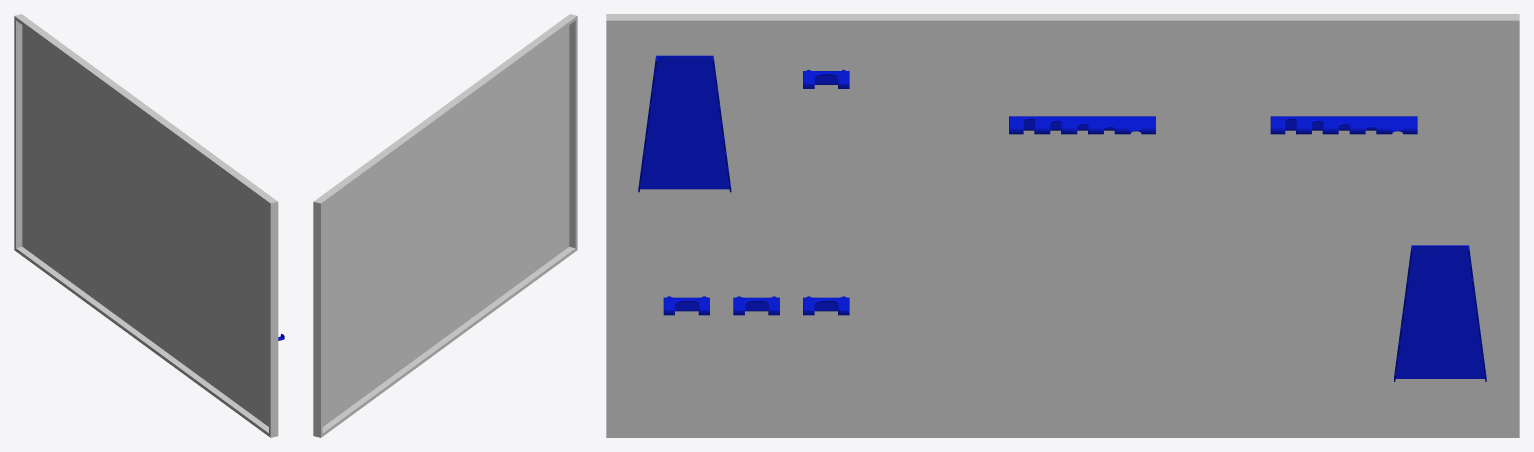
The model's file is Panel.fbx.
3 renders of one model, left to right at view 1: azimuth 30°, elevation 25°; view 2: azimuth 150°, elevation 25°; view 3: azimuth 270°, elevation 25°, orthographic. The views are drawn at different scales.
Visible parts, largest first — view 1: Panel; view 2: Panel; view 3: Panel.
Part boxes in pixels (x1,y1,x2,y2): Panel: (14, 14, 284, 437); Panel: (313, 14, 577, 437); Panel: (606, 14, 1519, 437).
Size of the model in its own units: 8.01 by 59.5 by 118.
